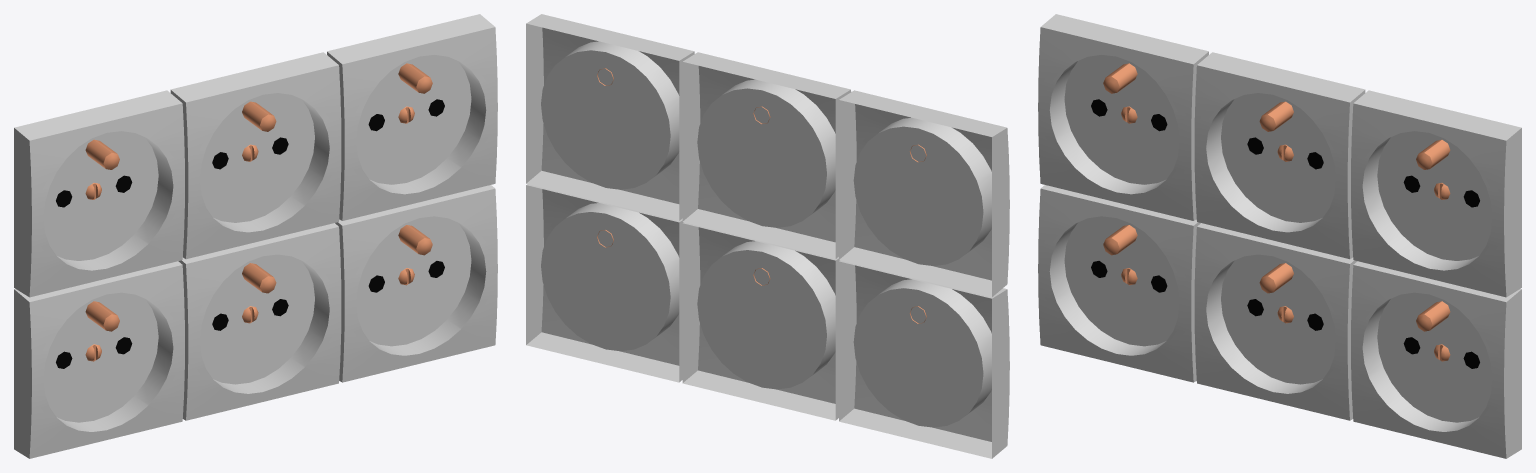
The model's file is Prises.fbx.
3 views of the same model, side by side, from view 1: azimuth 30°, elevation 25°; view 2: azimuth 150°, elevation 25°; view 3: azimuth 330°, elevation 25° (orthographic).
Parts seen in each view (by area): view 1: PrisesElec; view 2: PrisesElec; view 3: PrisesElec.
Boxes of the visible parts, x1,y1,x2,y2 form: PrisesElec: (14,14,497,458); PrisesElec: (526,14,1009,458); PrisesElec: (1038,14,1521,458).
Bounding box in the file's own units: 0.14 × 0.0924 × 0.0119.
